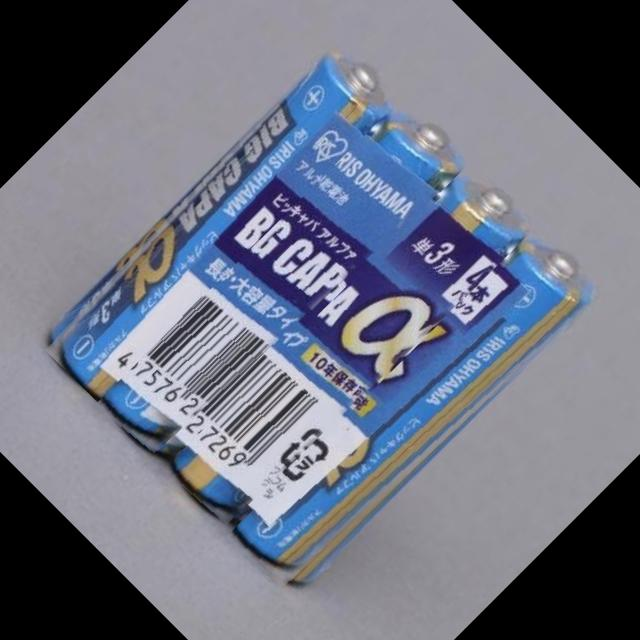Hazard: (224, 220, 610, 606), (92, 93, 474, 474), (162, 156, 542, 536), (33, 32, 407, 406)
